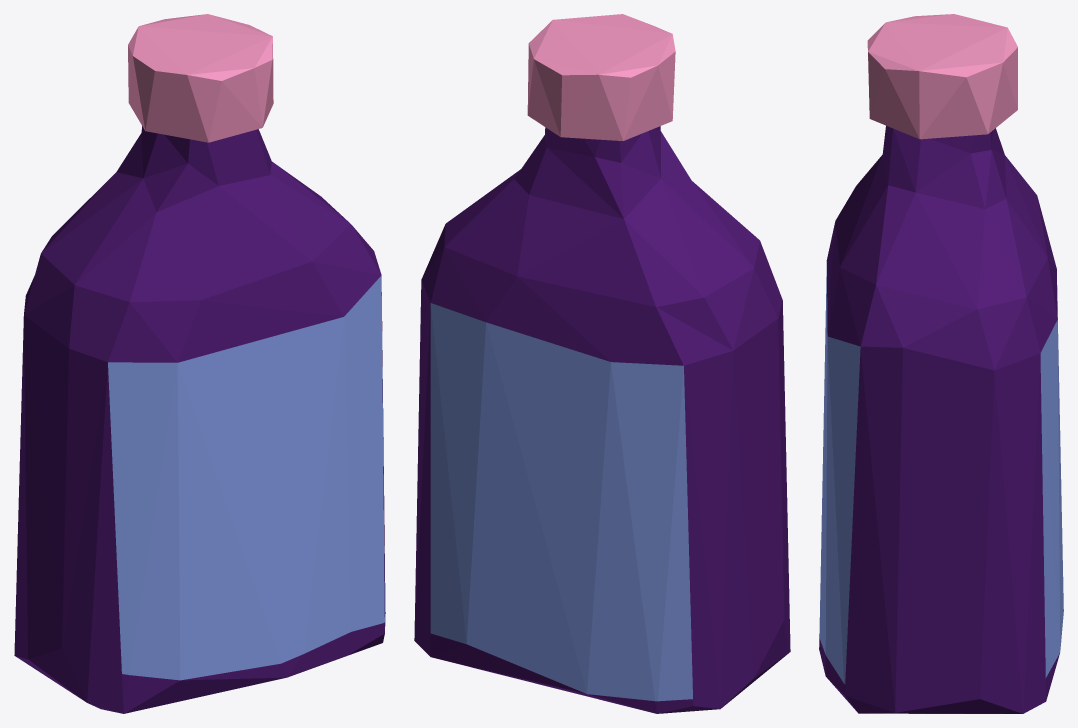
Rendered from Bottle05.fbx.
3 renders of one model, left to right at view 1: azimuth 30°, elevation 25°; view 2: azimuth 150°, elevation 25°; view 3: azimuth 270°, elevation 25°, orthographic.
Parts seen in each view (by area): view 1: Bottle05LowPoly; view 2: Bottle05LowPoly; view 3: Bottle05LowPoly.
Part boxes in pixels (<box>): Bottle05LowPoly: <box>14,14,385,713</box>; Bottle05LowPoly: <box>414,14,790,713</box>; Bottle05LowPoly: <box>819,14,1063,713</box>.
Size of the model in its own units: 11.08 by 19.77 by 7.26.
